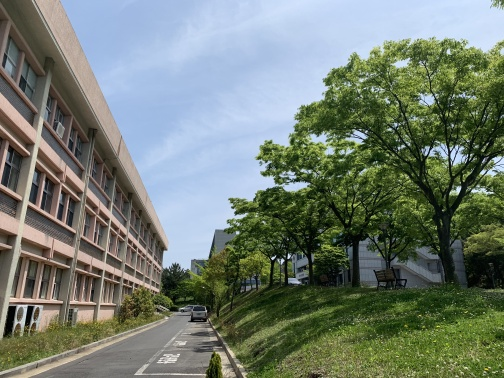College Of Education: (3, 9, 167, 361)
